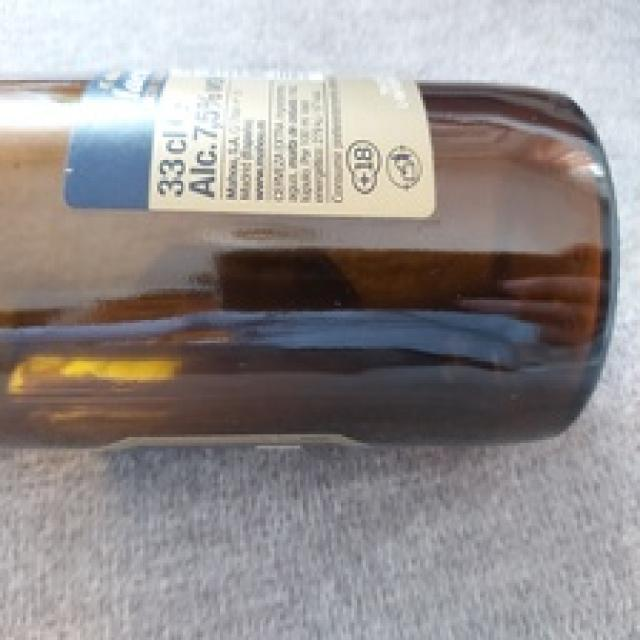Glass: (0, 69, 621, 448)
